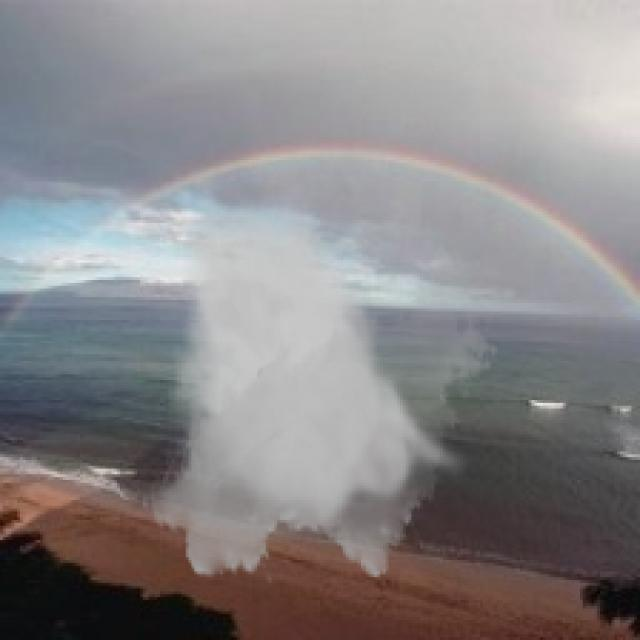smoke: (140, 183, 500, 588)
